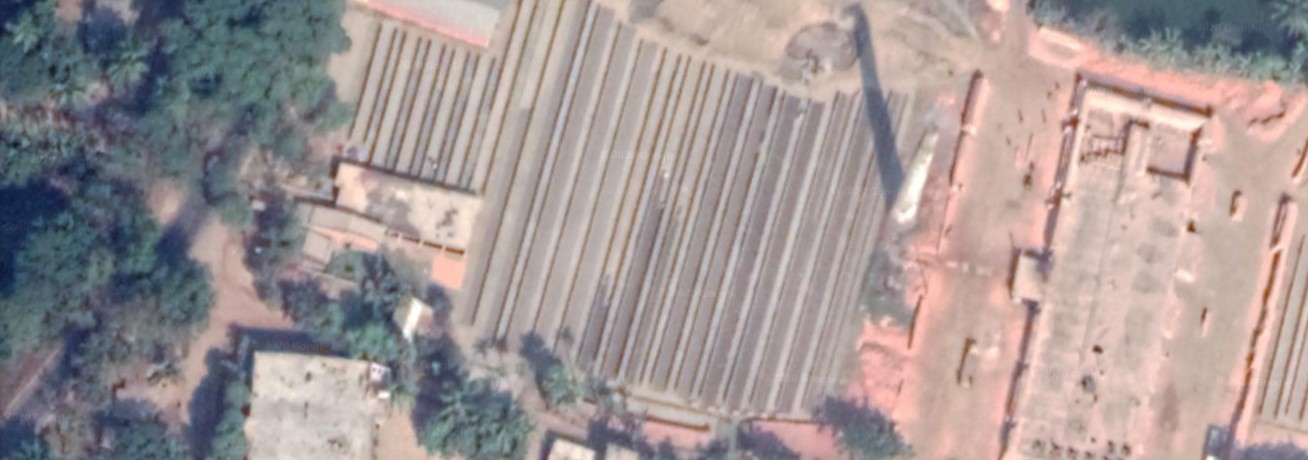kiln: (845, 6, 1195, 452)
